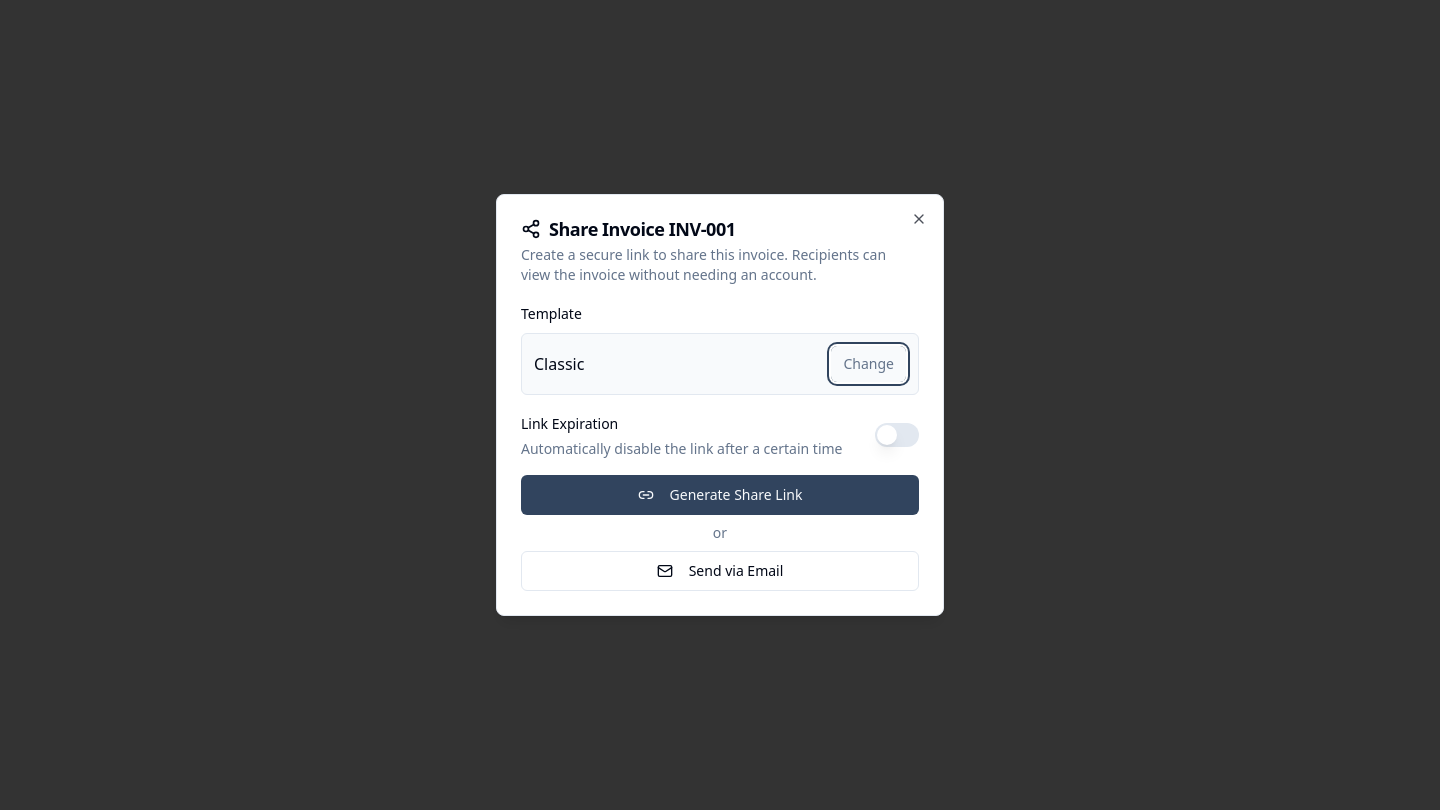
Scenario: Invoice Sharing Feature › ShareInvoiceModal › handles expiration settings
Click the switch at (897, 435), box [875,423,919,447]
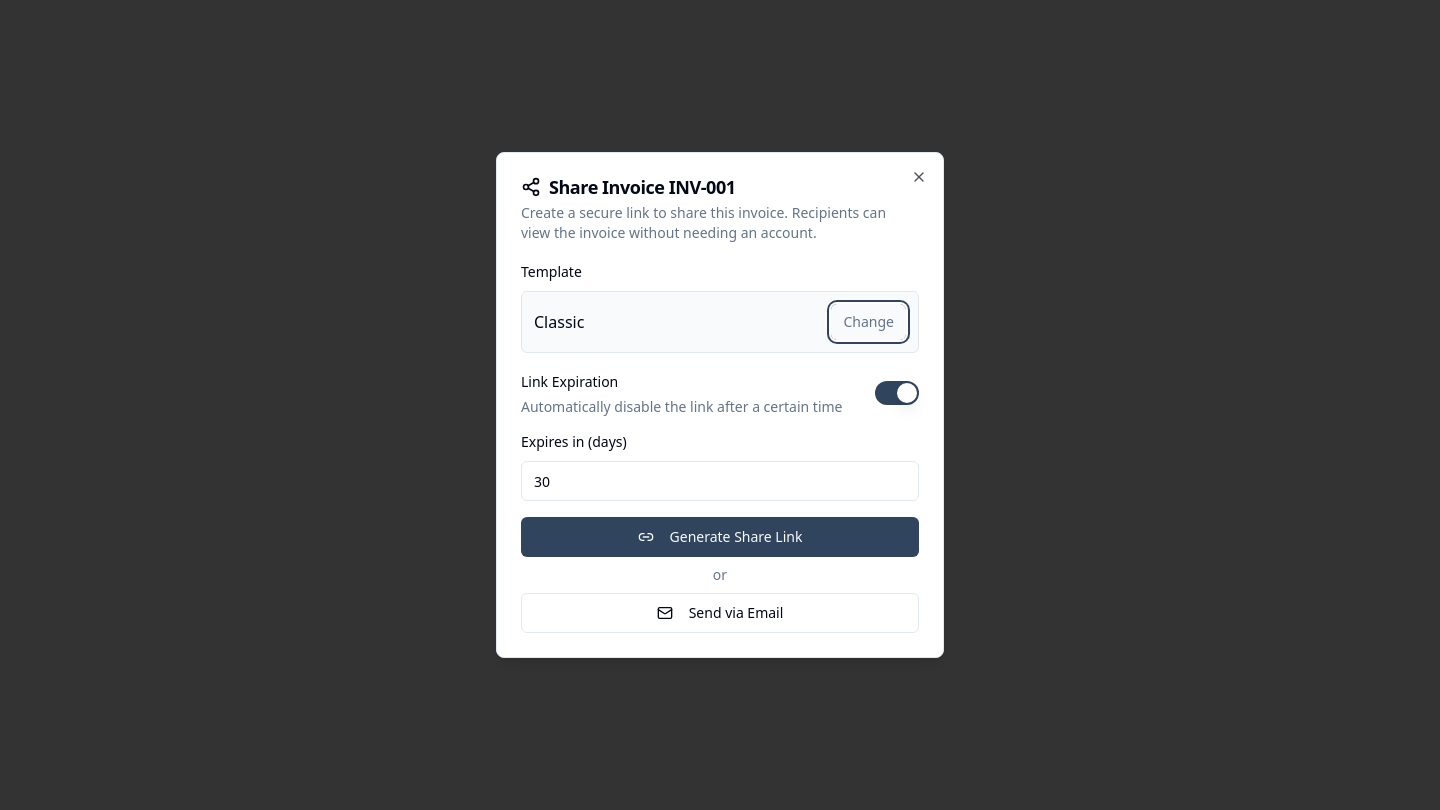
expect the number field labelled "Expires in (days)" is shown: met, box [521,461,919,501]
